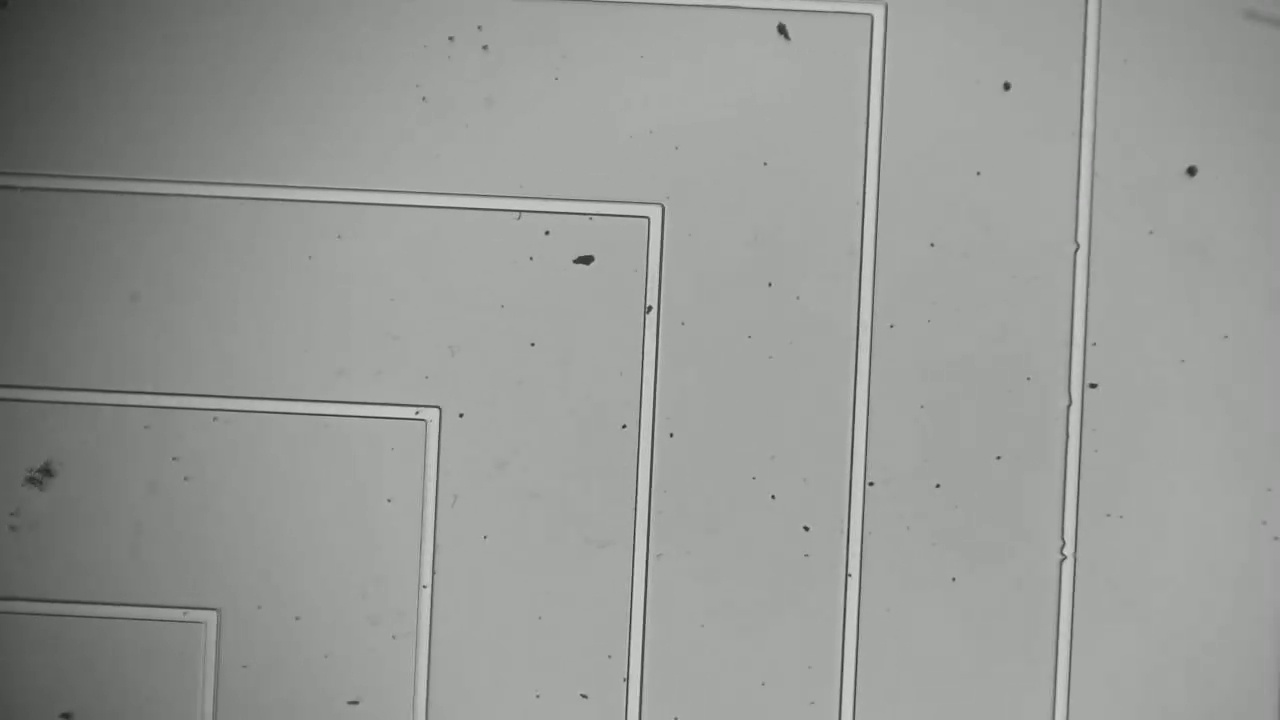edge_bite: (1056, 383, 1093, 413), (1068, 233, 1098, 261), (1053, 543, 1086, 568)
stains_enbedded: (638, 294, 666, 322)
